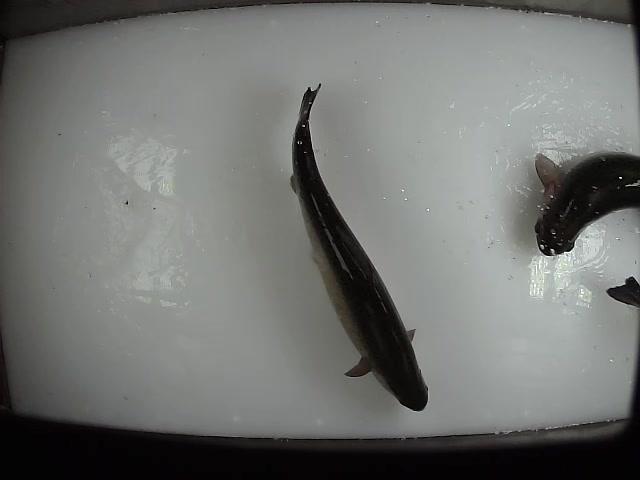Fish: (289, 84, 428, 412)
